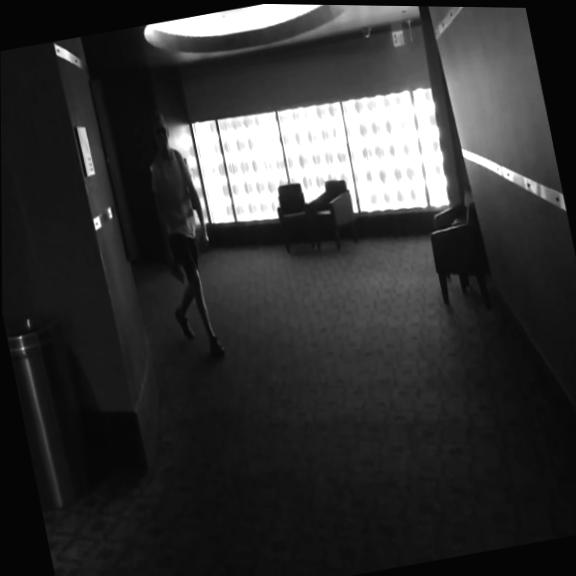safety_vest: (146, 146, 199, 243)
